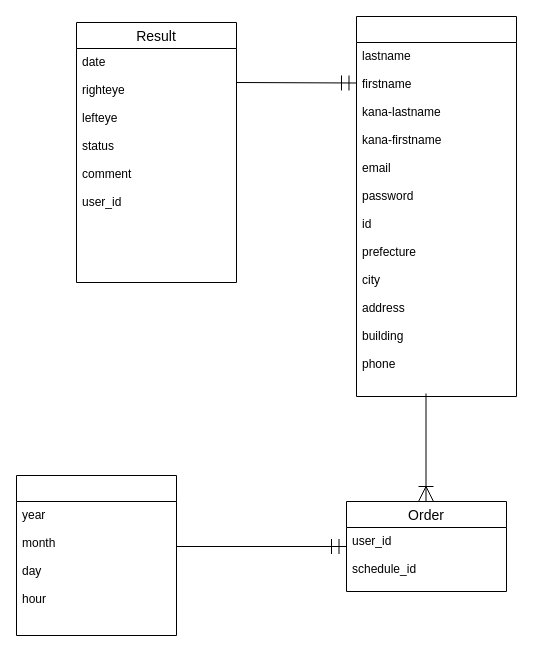
This 533x652 diagram has some shape labels left out. Here are the shapes that lost their labels. From the top down, the box of each, then its label:
(356, 16, 516, 396): User
(16, 474, 176, 636): Schedule
